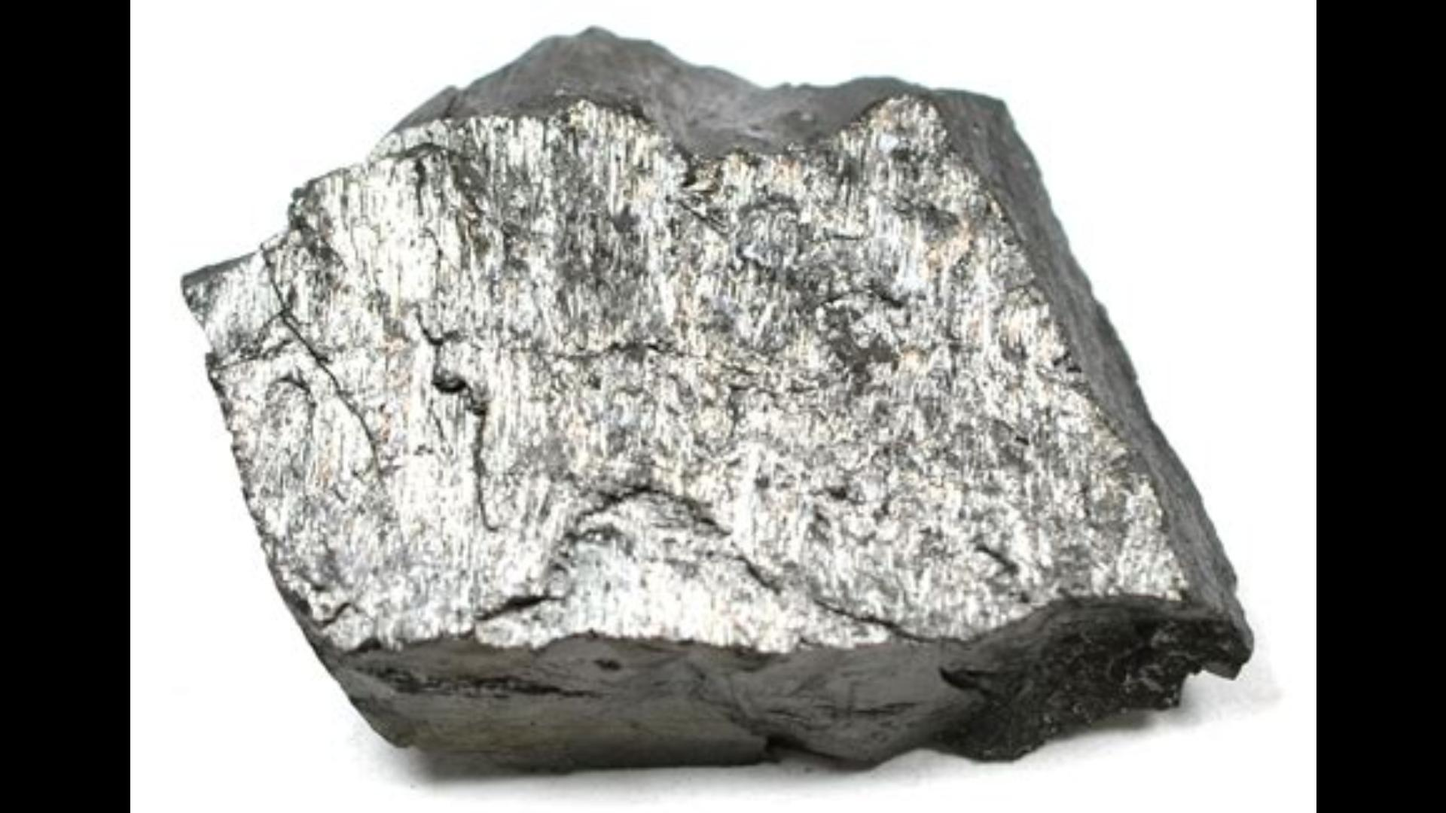rock: (182, 30, 1246, 768)
